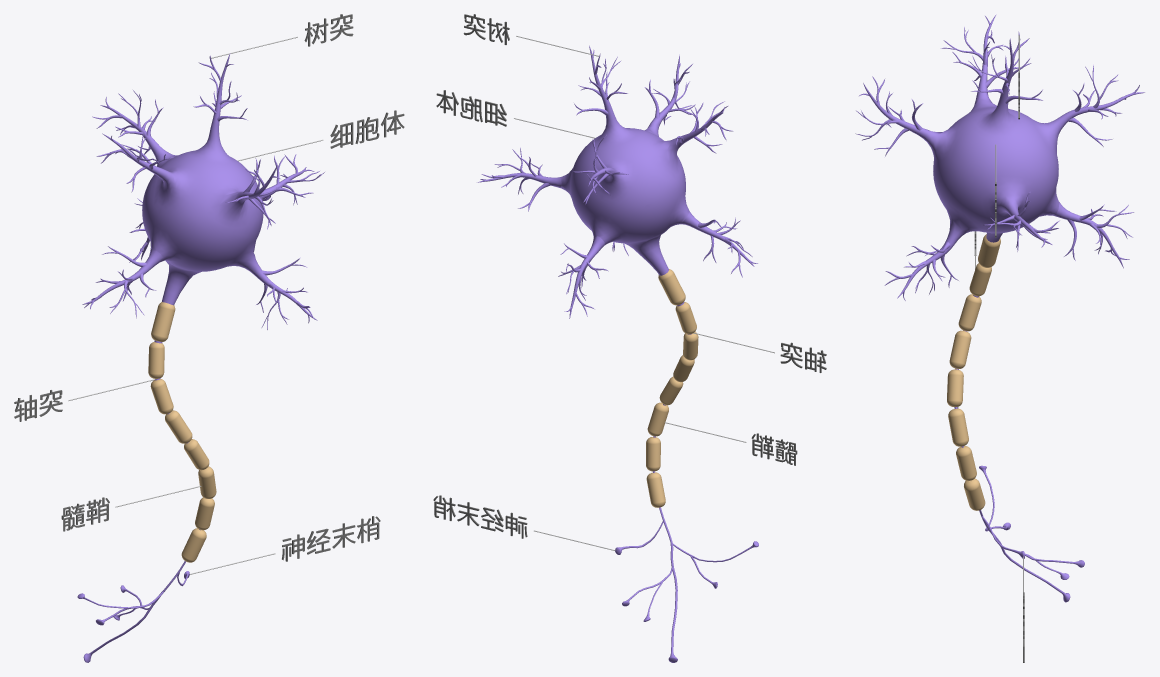
The model's file is shenjingxibao_06.fbx.
The picture shows the model from 3 angles, left to right: view 1: azimuth 30°, elevation 25°; view 2: azimuth 150°, elevation 25°; view 3: azimuth 270°, elevation 25°; orthographic projection. The views are drawn at different scales.
Parts seen in each view (by area): view 1: butouming_A, suiqiao, butouming_b, type5, type2, type4, line, type3, type1; view 2: butouming_A, suiqiao, butouming_b, type5, type2, type4, line, type3, type1; view 3: butouming_A, suiqiao, butouming_b.
Boxes of the visible parts, x1,y1,x2,y2 form: butouming_A: [77, 53, 317, 662]; suiqiao: [148, 302, 216, 562]; butouming_b: [82, 154, 324, 318]; type5: [282, 516, 380, 561]; type2: [330, 110, 404, 148]; type4: [61, 497, 109, 531]; line: [68, 36, 323, 574]; type3: [14, 390, 62, 421]; type1: [304, 14, 353, 46]; butouming_A: [561, 45, 758, 662]; suiqiao: [646, 269, 698, 507]; butouming_b: [477, 147, 757, 318]; type5: [433, 495, 527, 538]; type2: [436, 90, 506, 126]; type4: [751, 433, 797, 465]; line: [514, 36, 774, 550]; type3: [780, 342, 826, 372]; type1: [463, 14, 509, 44]; butouming_A: [855, 14, 1144, 602]; suiqiao: [947, 234, 1000, 510]; butouming_b: [983, 192, 1133, 268].
Bounding box in the file's own units: 75.24 × 109 × 45.82.
